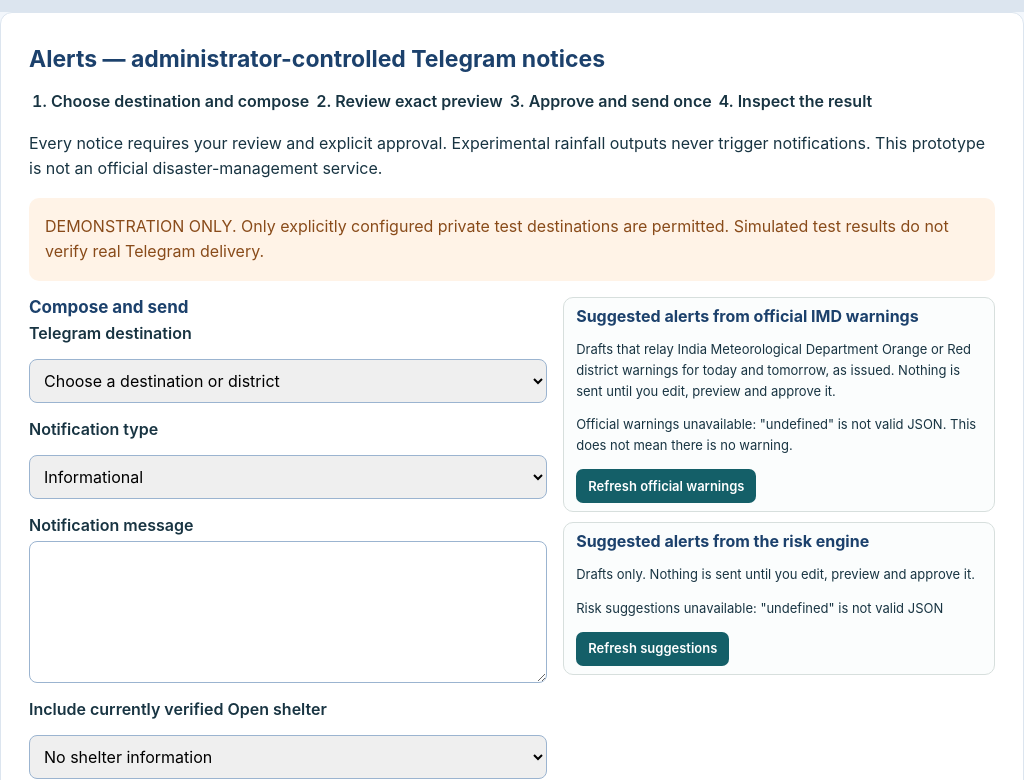
Test case: supports verified shelter selection and independent emergency composition
Select "Emergency — independently verified by administrator" in the dropdown labelled "Notification type" at {"x": 288, "y": 477}, box [29, 455, 547, 499]
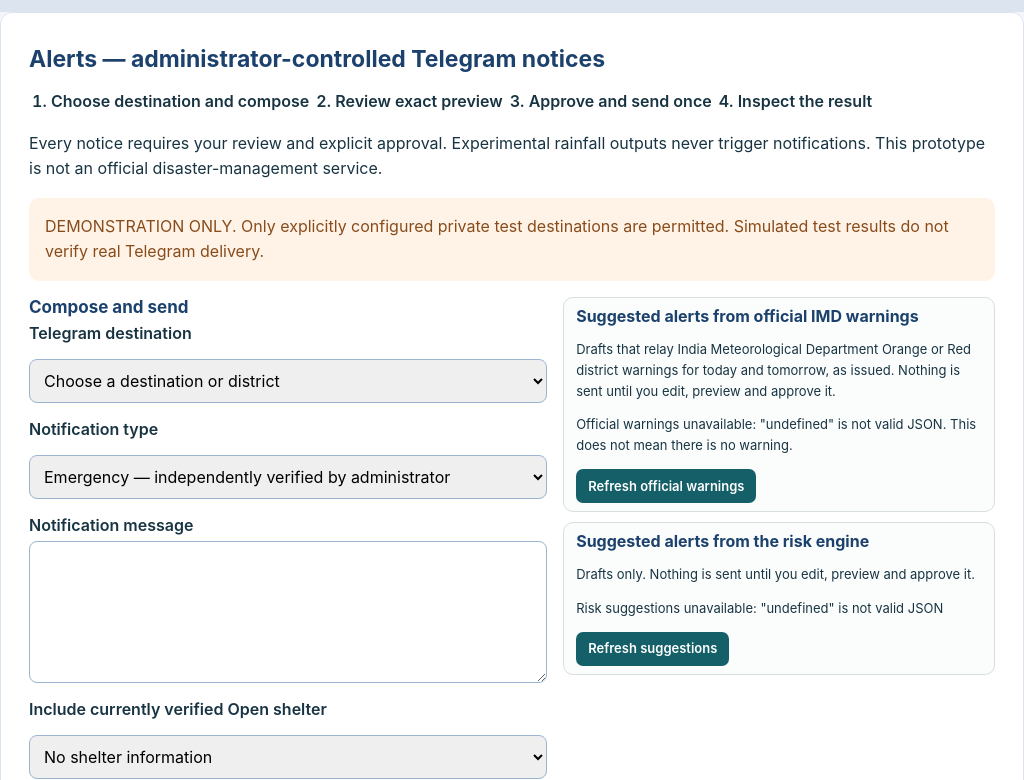
Select "DEMONSTRATION ONLY — Udupi" in the dropdown labelled "Include currently verified Open shelter" at {"x": 288, "y": 757}, box [29, 735, 547, 779]
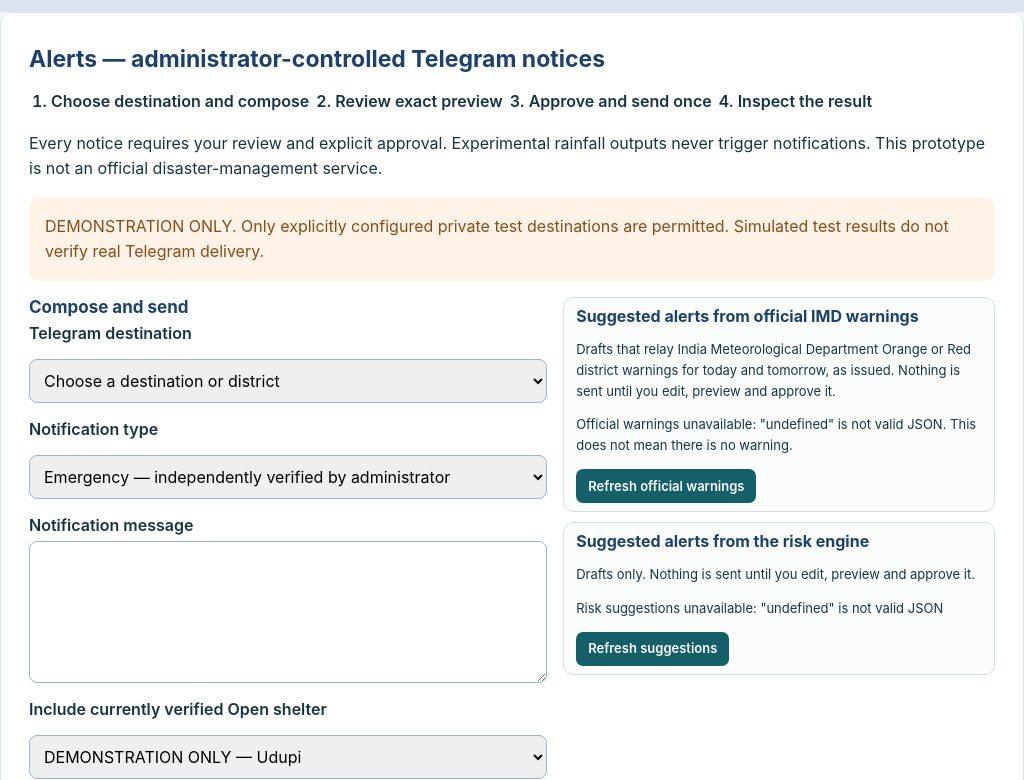
Select "Private test — private test only" in the dropdown labelled "Telegram destination" at {"x": 288, "y": 381}, box [29, 359, 547, 403]
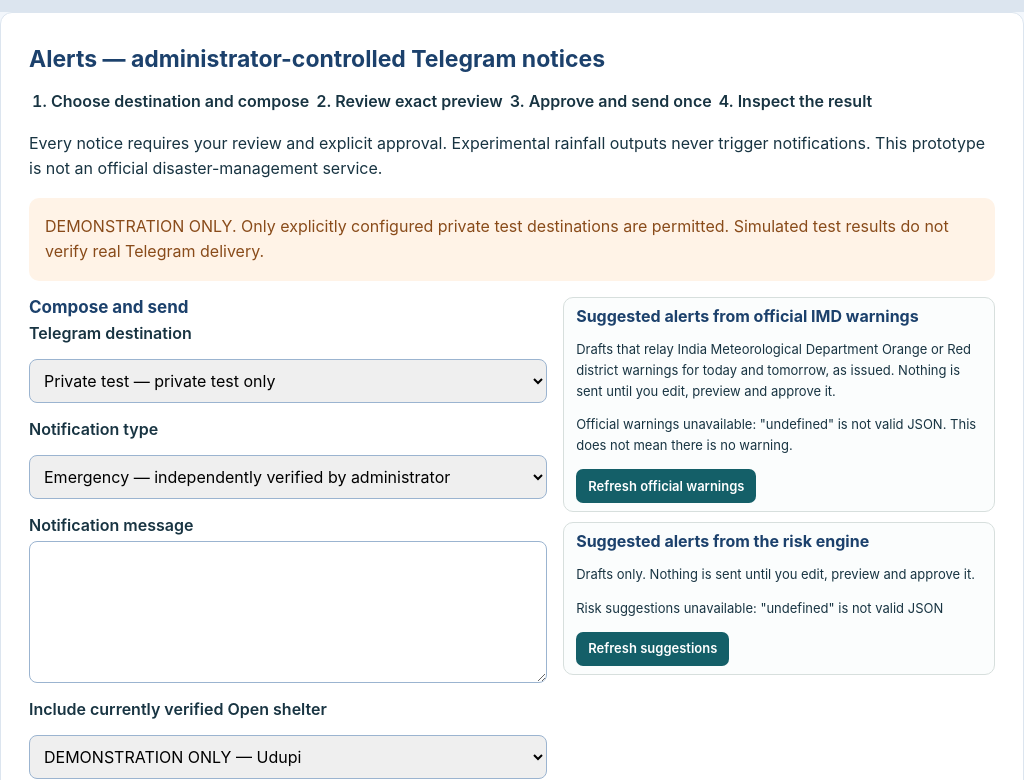
Type "Isolated test notice" into the text box labelled "Notification message" at {"x": 288, "y": 612}, box [29, 541, 547, 683]
(page scrolled)
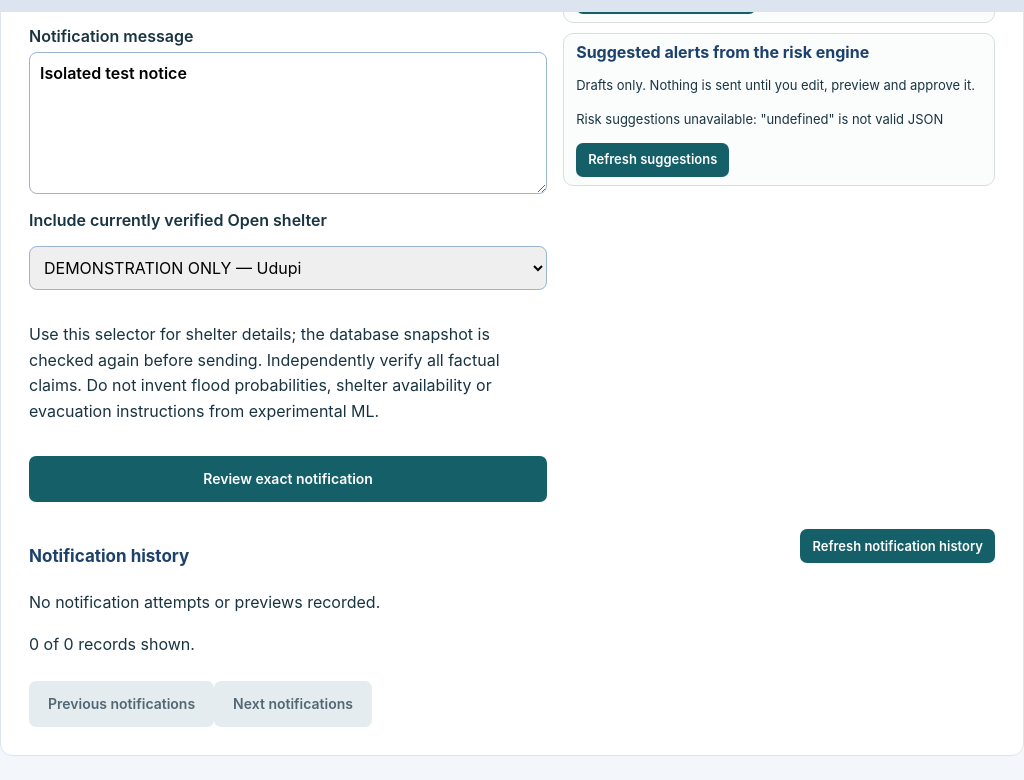
Click the button "Review exact notification" at {"x": 288, "y": 479}, box [29, 456, 547, 502]
(page scrolled)
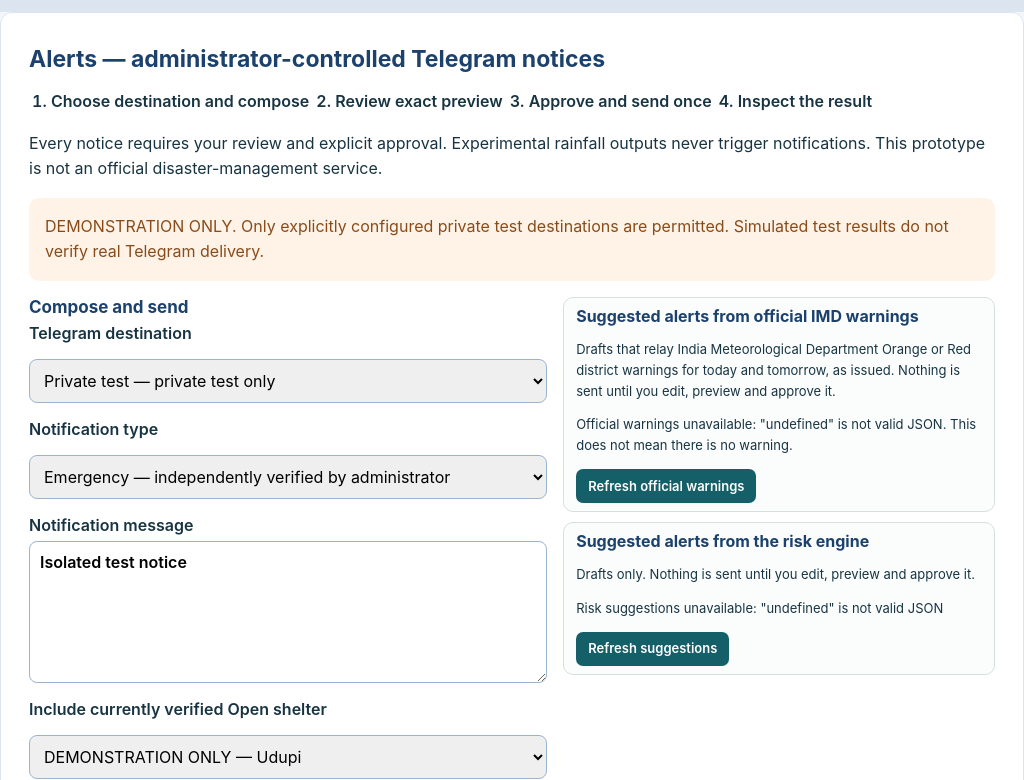
Now the text "Experimental rainfall outputs never trigger" is shown, box [29, 133, 985, 178]
